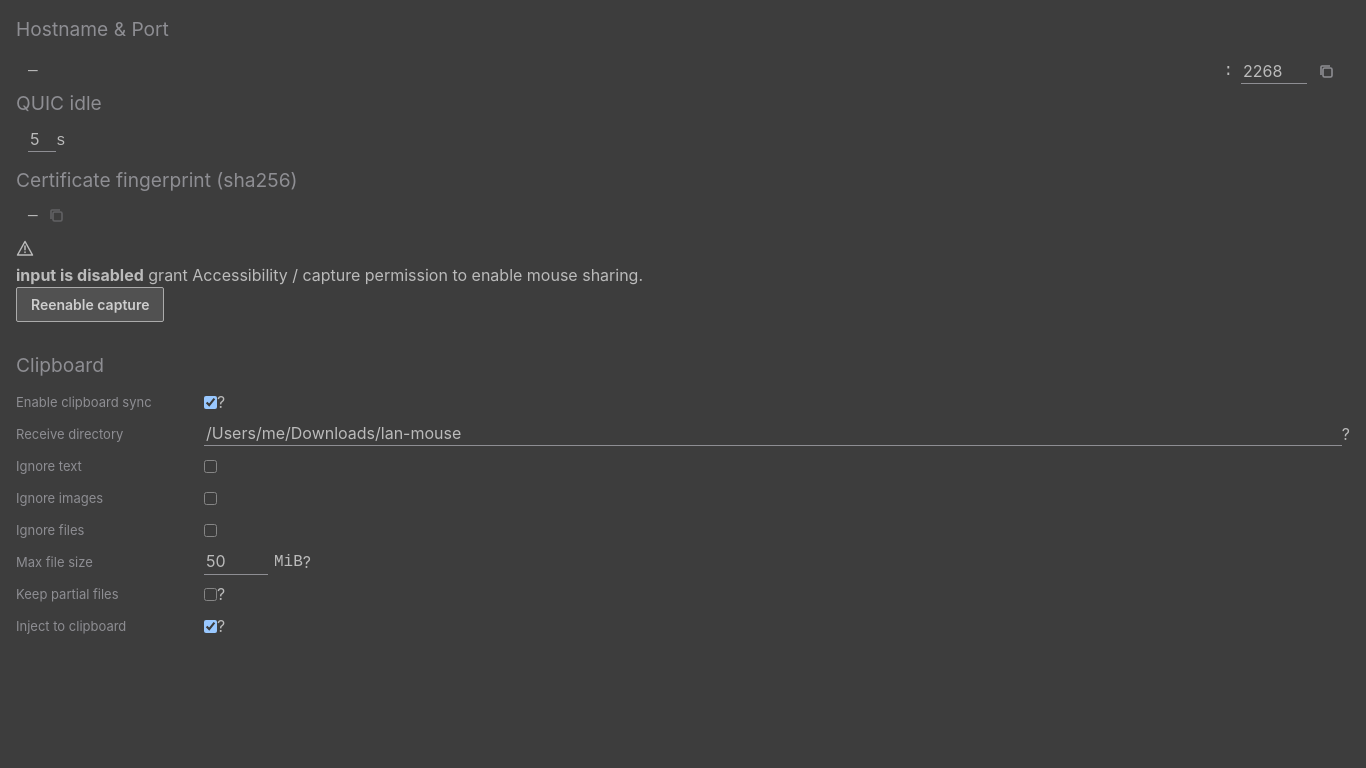
Test: GeneralPanel clipboard section › MiB → bytes: negative input snaps back to 0 (wire "no limit" sentinel)
Type "-5" into the number field with test id "clipboard-max-file-size".
click(236, 562); type("-5")  # box [204, 550, 268, 574]
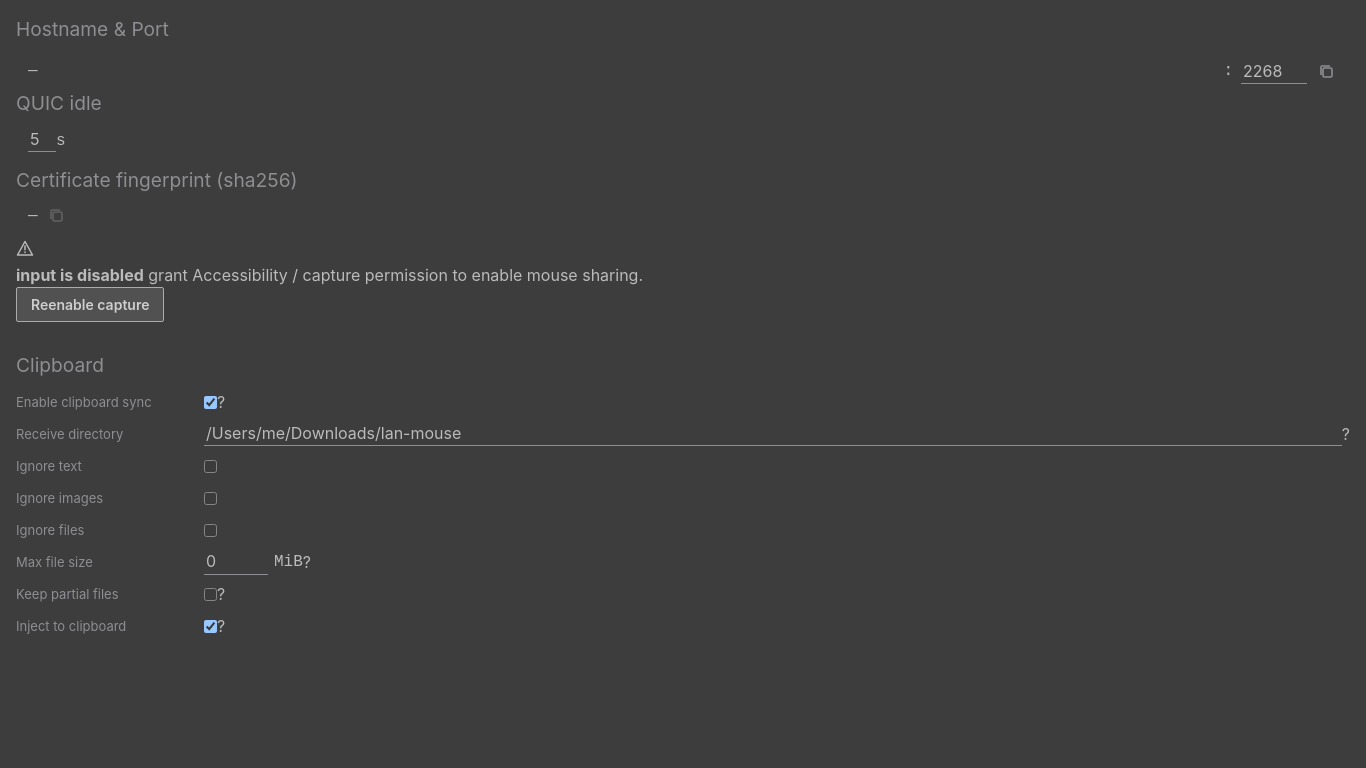
Check: the number field with test id "clipboard-max-file-size" holds "0", box [204, 550, 268, 574]
